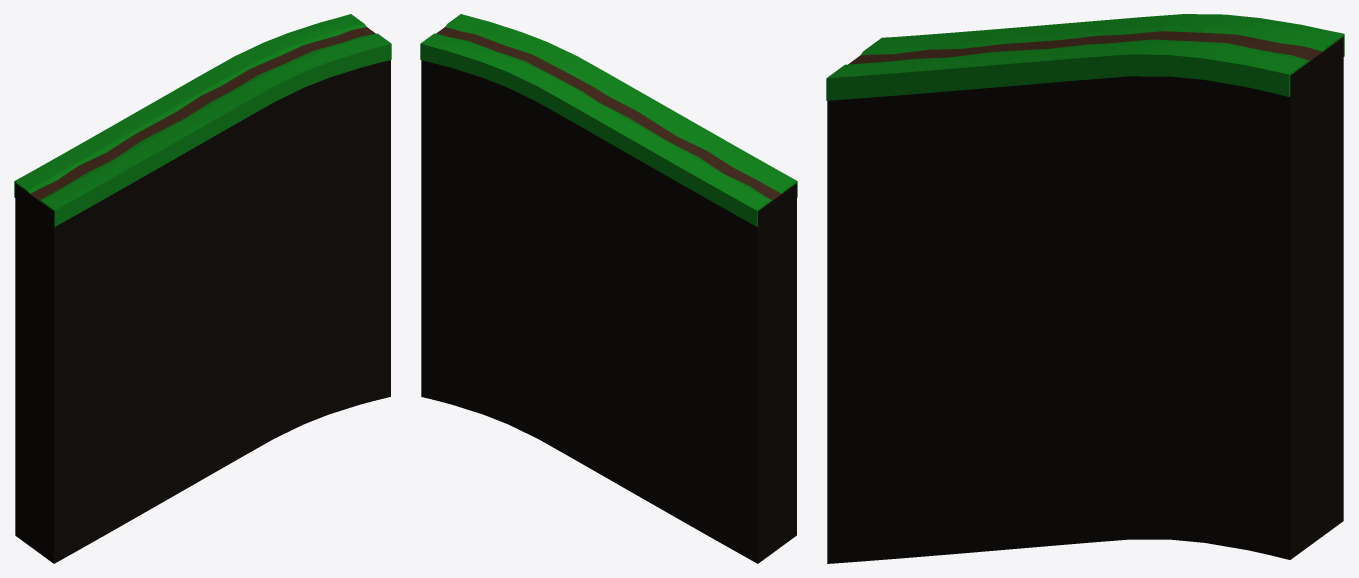
Rendered from blockSlope03.fbx.
3 views of the same model, side by side, from view 1: azimuth 30°, elevation 25°; view 2: azimuth 150°, elevation 25°; view 3: azimuth 330°, elevation 25° (orthographic). The views are drawn at different scales.
Visible parts, largest first — view 1: Box001; view 2: Box001; view 3: Box001.
Boxes of the visible parts, x1,y1,x2,y2 form: Box001: [14, 14, 391, 563]; Box001: [420, 14, 797, 563]; Box001: [826, 14, 1344, 563].
Size of the model in its own units: 50 by 10.41 by 62.45.
